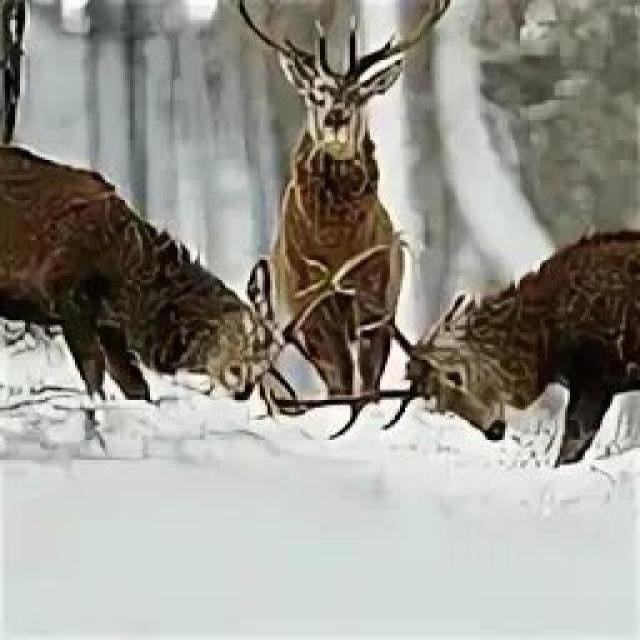deer: (0, 58, 310, 499), (200, 22, 426, 425), (408, 206, 640, 510)
